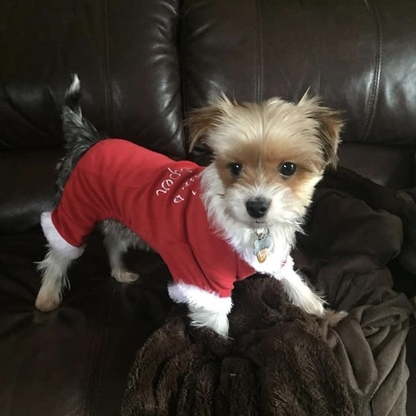yorkshire: (39, 72, 340, 335)
